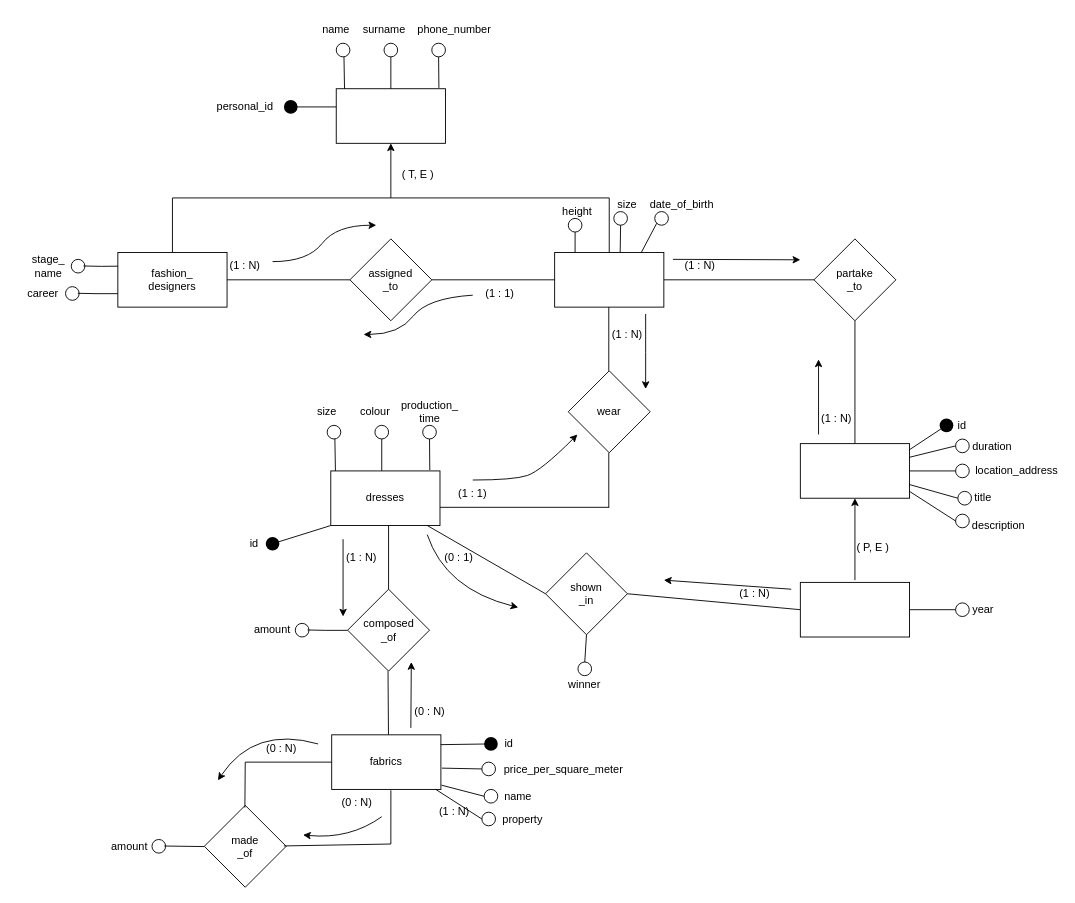
Some shapes in this 1075 by 903 pixel diagram are drawn without their labels. Each missing label, with the centre of its shape:
fashion_ competitions: (x=854, y=609)
fashion_ exhibitions: (x=854, y=470)
fashion_models: (x=609, y=279)
people: (x=390, y=115)
